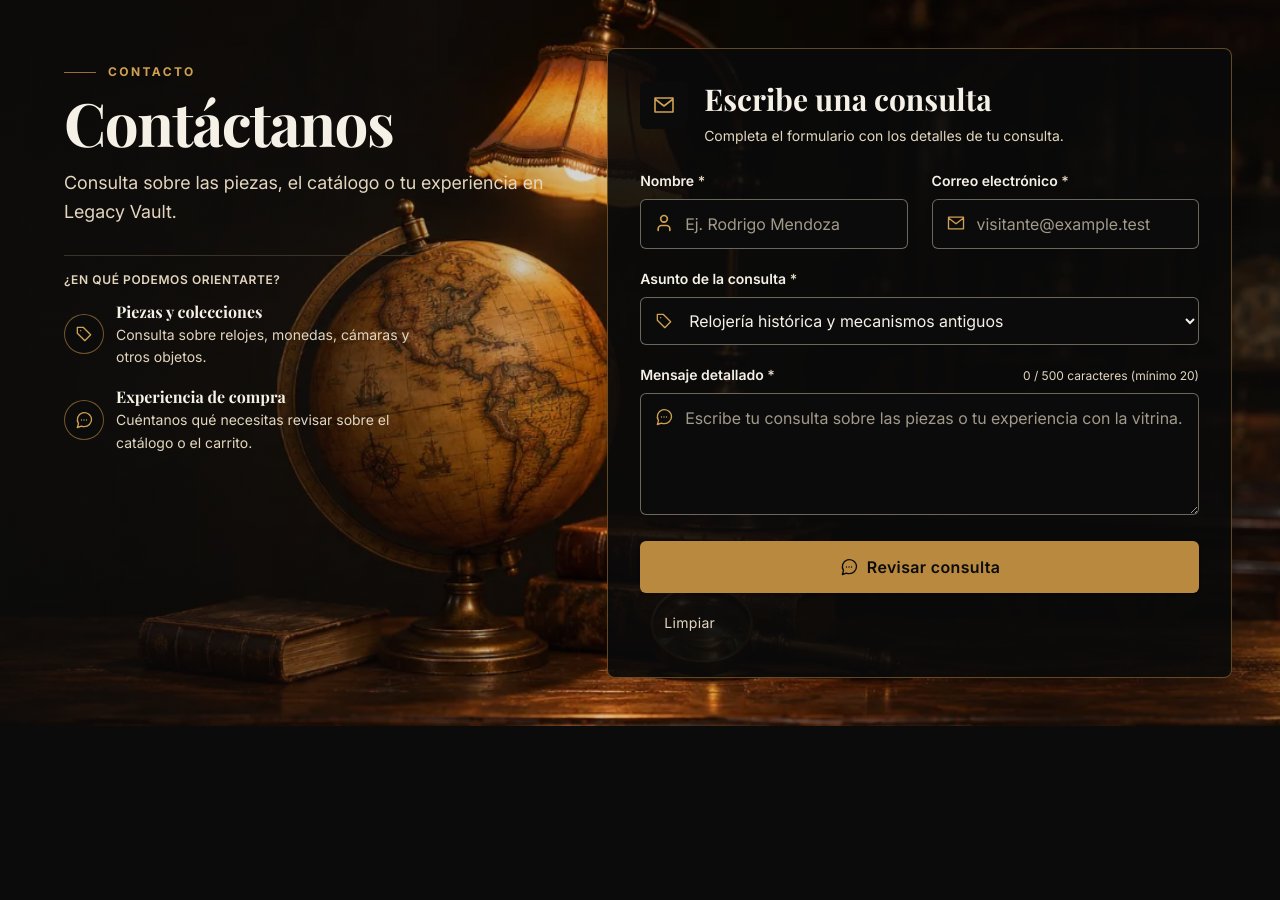
it: Páginas complementarias de Legacy Vault › ContactPage (Contacto) › valida campos inválidos, asocia mensajes de error accesibles y enfoca el primer error
Step 1. Click the button "Revisar consulta" → (920, 567), box [640,541,1199,593]
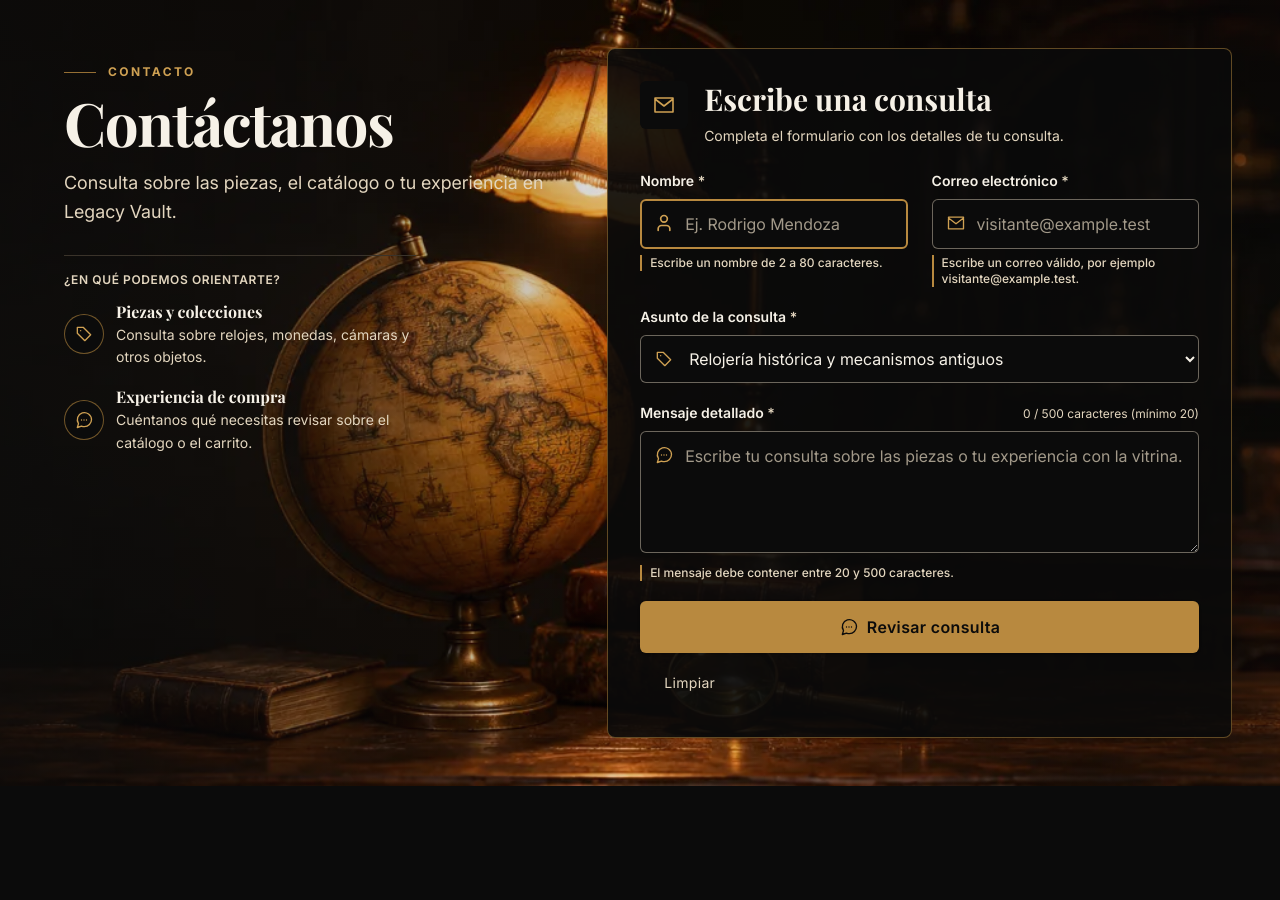
Result: the text "Escribe un nombre de 2 a 80 caracteres." is shown at [640,255,908,271]
Result: the text "Escribe un correo válido, por ejemplo visitante@example.test." is shown at [932,255,1199,287]
Result: the text "El mensaje debe contener entre 20 y 500 caracteres." is shown at [640,565,1199,581]
